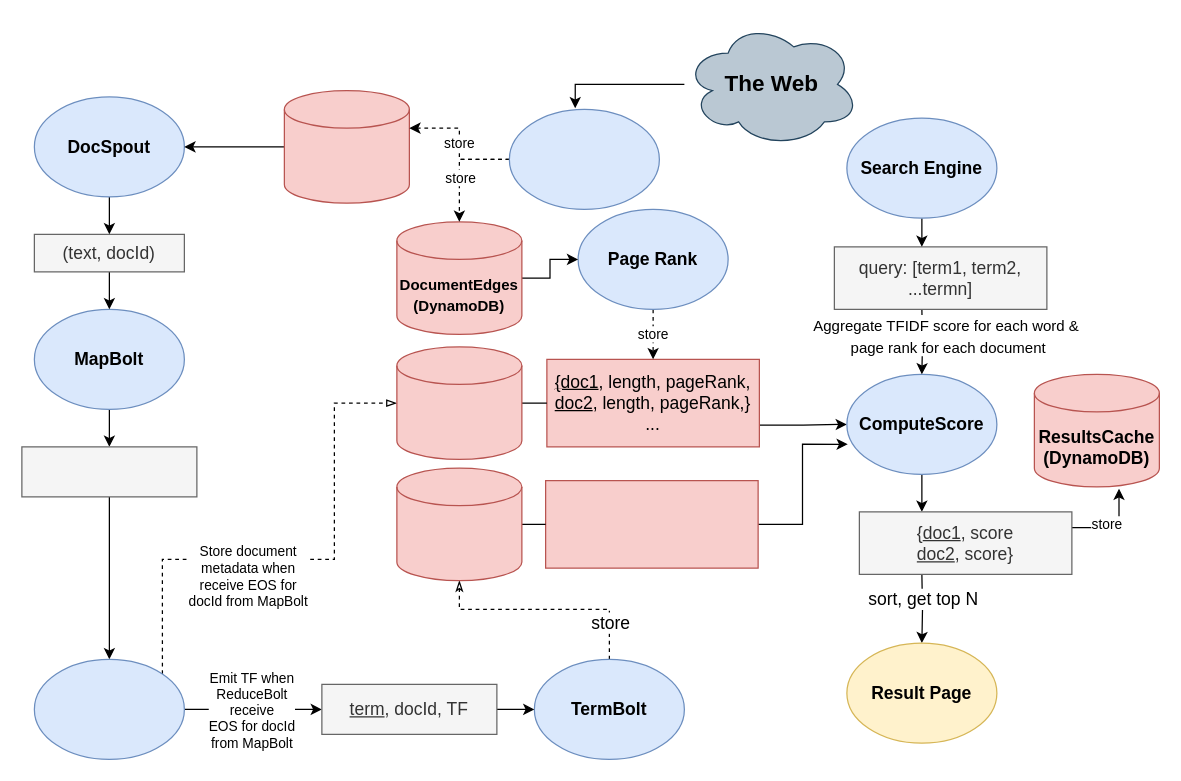
The diagram is 1181 pixels wide and 781 high, and some of its shapes have lost their labels. The centre of each missing label's shape, as x and y in pixels:
"Crawler" goes at (583,158).
"Documents (DynamoDB)" goes at (459,402).
"Documents Crawled (S3)" goes at (346,146).
"ReduceBolt" goes at (108,708).
"term , docId" goes at (109,471).
"Terms (DynamoDB)" goes at (459,524).
"{term1 , doc1 , TF, term1 , doc2 , TF, term2 , doc1 , TF} ..." goes at (651,523).
